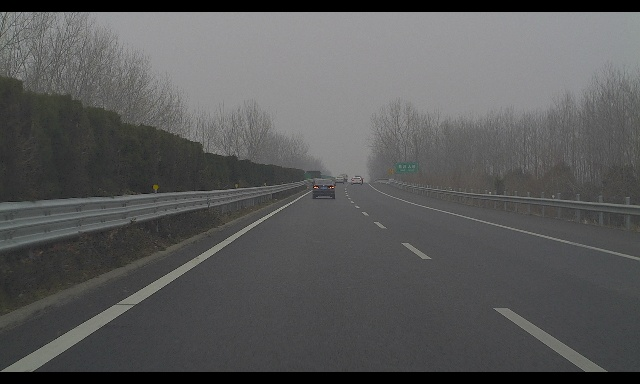car: (312, 179, 337, 199), (350, 177, 362, 185), (354, 175, 364, 184), (335, 176, 345, 184)
truck: (339, 174, 348, 182)
